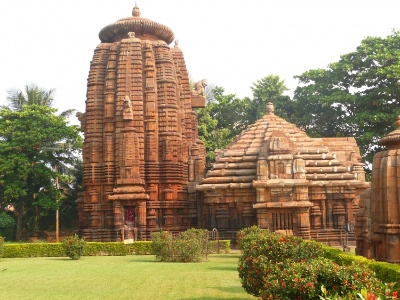amalaka: (91, 16, 184, 48)
gopuram: (75, 39, 212, 208)
